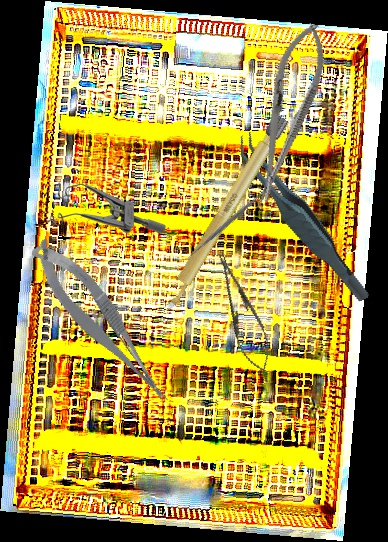Micro Scissor: (24, 226, 176, 421)
Needle Holder: (241, 17, 335, 208), (206, 247, 280, 378)
Scalpel Handle: (159, 113, 290, 314)
Spatula Surgical: (182, 182, 273, 264)
Speculum: (46, 182, 166, 234)
Tissue Forceps: (233, 115, 371, 321)
